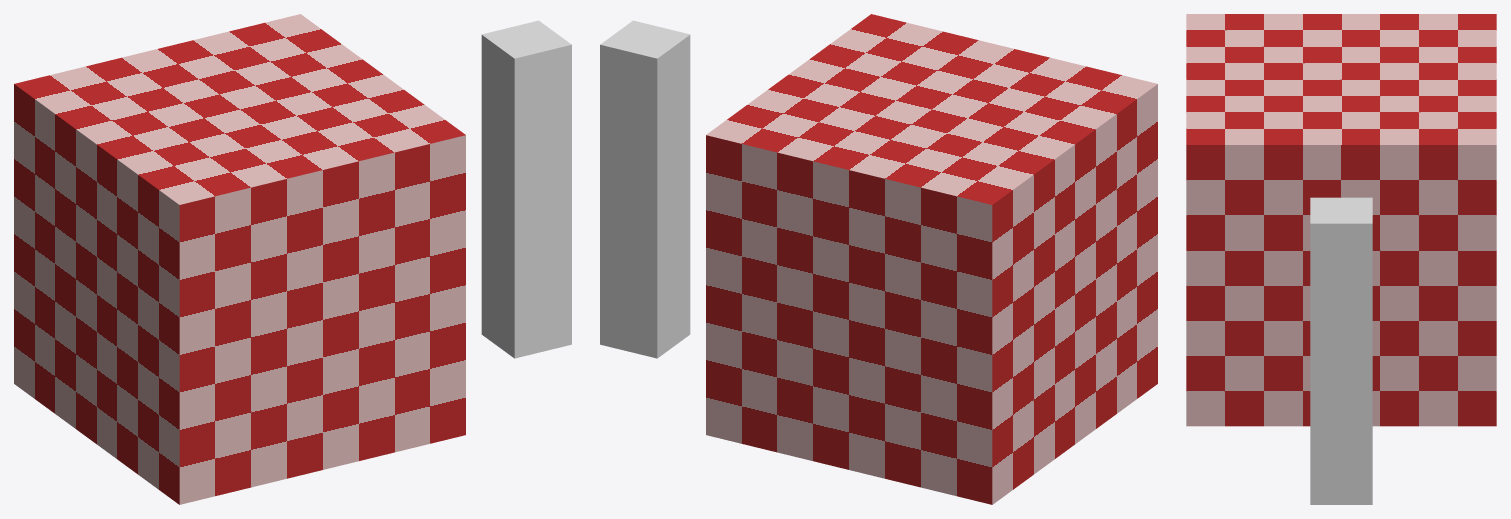
Rendered from robot.glb.
3 views of the same model, side by side, from view 1: azimuth 30°, elevation 25°; view 2: azimuth 150°, elevation 25°; view 3: azimuth 270°, elevation 25° (orthographic). The views are drawn at different scales.
Visible parts, largest first — view 1: Body, Arm; view 2: Body, Arm; view 3: Body, Arm.
Part boxes in pixels (box(x1,y1,x2,y2)): Body: box(14, 14, 465, 504); Arm: box(481, 20, 571, 358); Body: box(706, 14, 1157, 504); Arm: box(600, 20, 690, 358); Body: box(1186, 14, 1496, 426); Arm: box(1310, 197, 1372, 504).
Size of the model in its own units: 1.6 by 1 by 1.
Materials: 2 (1 with a texture image).
